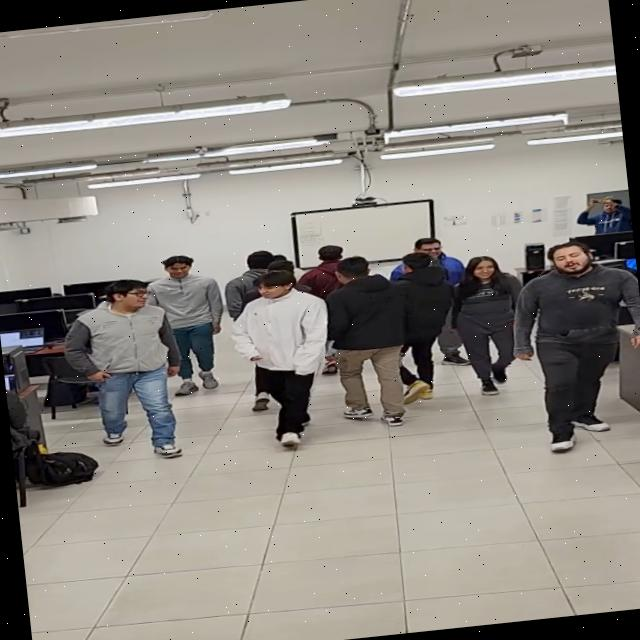Persona: (501, 233, 640, 455), (54, 274, 192, 468), (224, 264, 342, 450), (316, 252, 411, 432), (374, 248, 466, 404), (139, 251, 232, 398), (443, 251, 535, 398), (218, 246, 288, 324), (384, 233, 466, 283), (291, 241, 356, 300)
